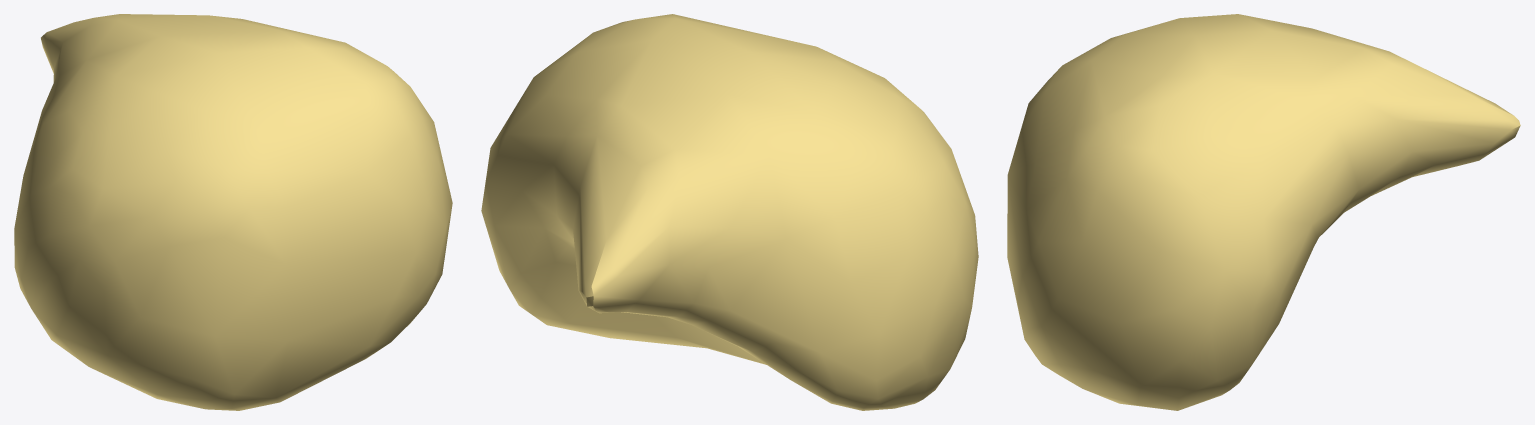
File: fma72832_fj1829.glb
3 views of the same model, side by side, from view 1: azimuth 30°, elevation 25°; view 2: azimuth 150°, elevation 25°; view 3: azimuth 270°, elevation 25° (orthographic). The views are drawn at different scales.
Visible parts, largest first — view 1: FMA72832_FJ1829; view 2: FMA72832_FJ1829; view 3: FMA72832_FJ1829.
Part boxes in pixels (x1,y1,x2,y2): FMA72832_FJ1829: [14, 14, 452, 410]; FMA72832_FJ1829: [481, 14, 978, 410]; FMA72832_FJ1829: [1007, 14, 1520, 410].
Size of the model in its own units: 0.017 by 0.0128 by 0.0184.
